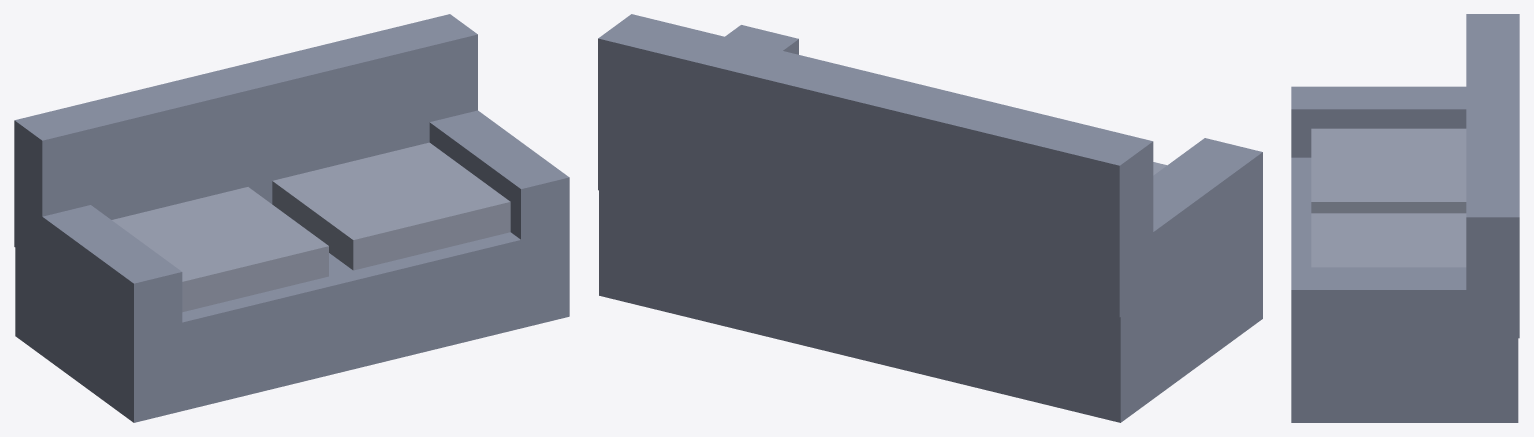
File: item_sofa.glb
The picture shows the model from 3 angles, left to right: view 1: azimuth 30°, elevation 25°; view 2: azimuth 150°, elevation 25°; view 3: azimuth 270°, elevation 25°; orthographic projection. The views are drawn at different scales.
Visible parts, largest first — view 1: item_sofa; view 2: item_sofa; view 3: item_sofa.
Part boxes in pixels (x1,y1,x2,y2): item_sofa: (14, 14, 569, 422); item_sofa: (598, 14, 1262, 422); item_sofa: (1291, 14, 1519, 422).
Bounding box in the file's own units: 1.8 × 0.85 × 0.855.
